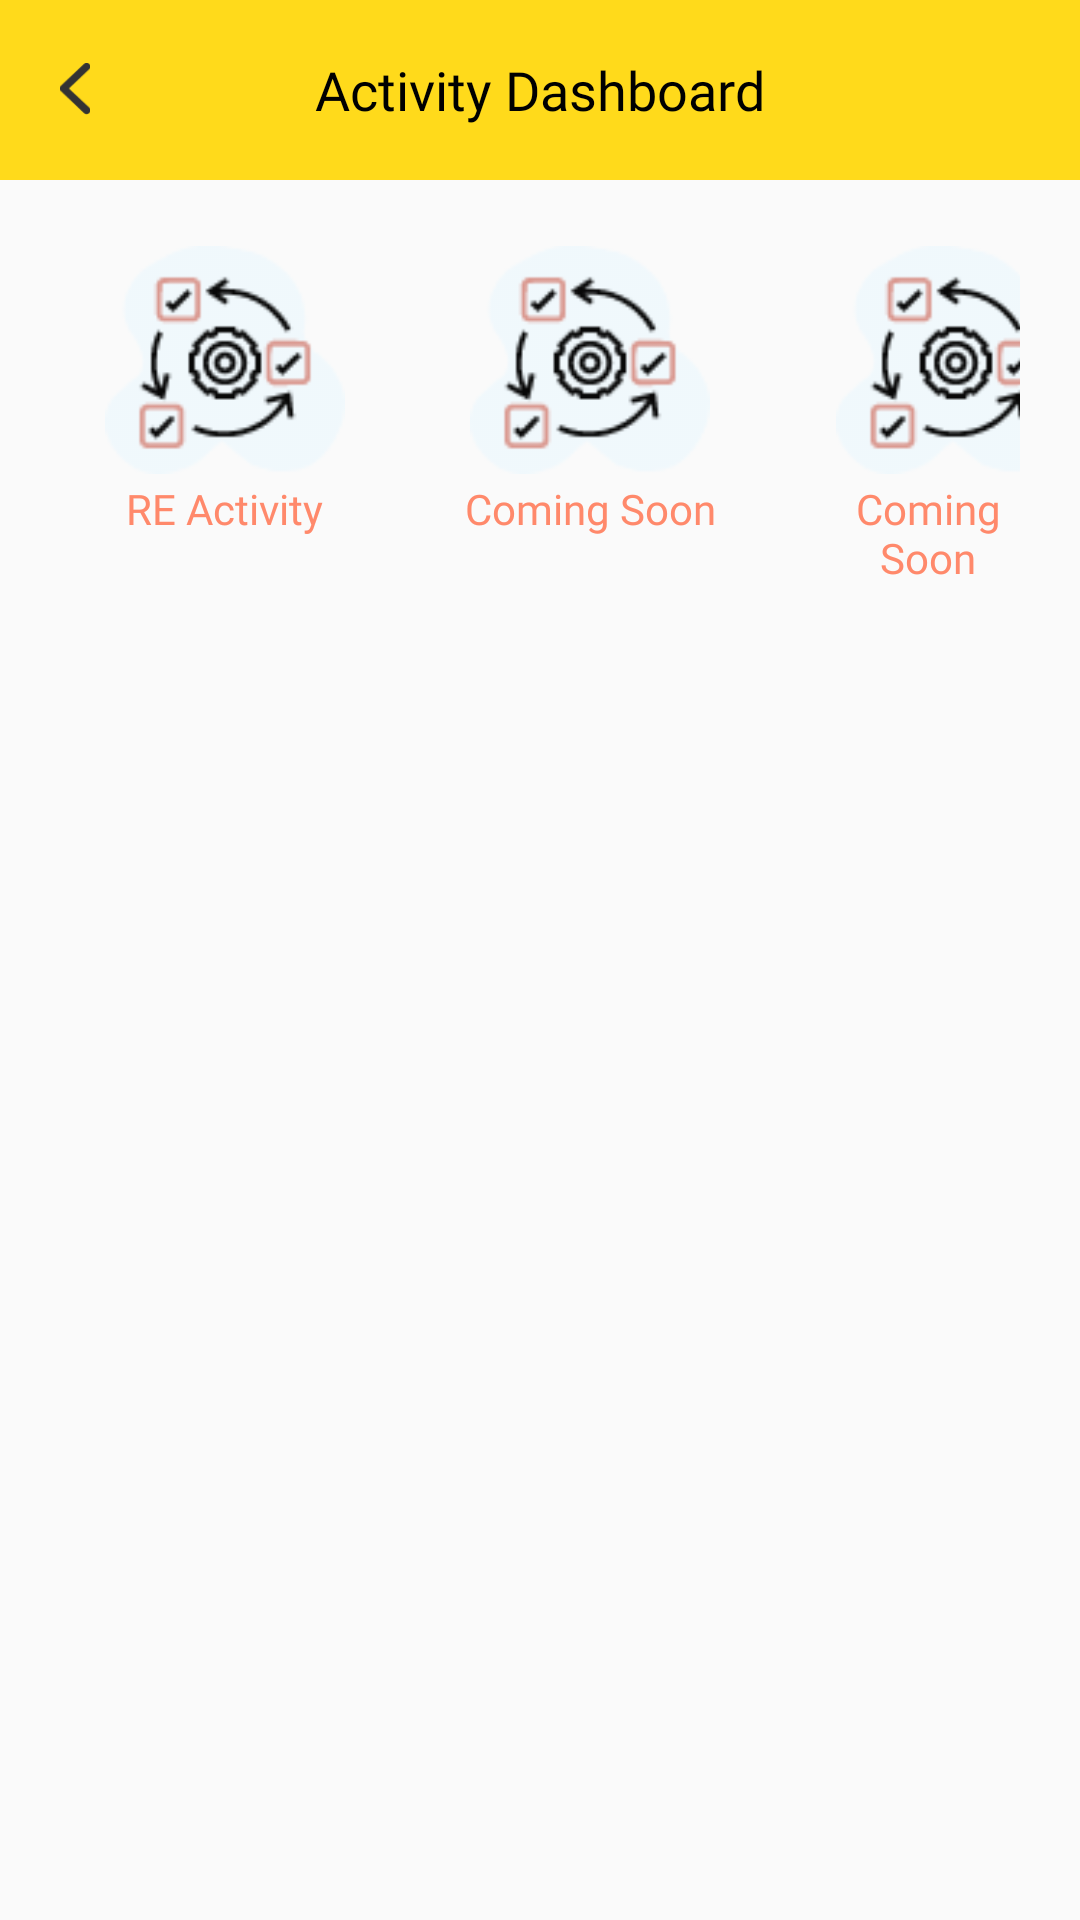

Named icons in this screenshot (1080 × 1920) and their bounding boxes, (x1, y1, x2, y2):
back: (60, 63, 90, 115)
